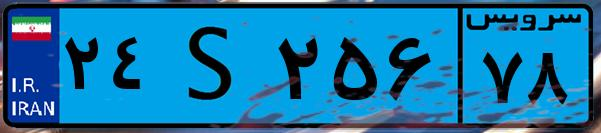2: (270, 28, 330, 110), (57, 26, 110, 100)
4: (110, 28, 158, 98)
5: (330, 28, 385, 110)
6: (385, 28, 445, 110)
7: (475, 38, 525, 113)
8: (525, 38, 570, 115)
S: (158, 12, 270, 120)
